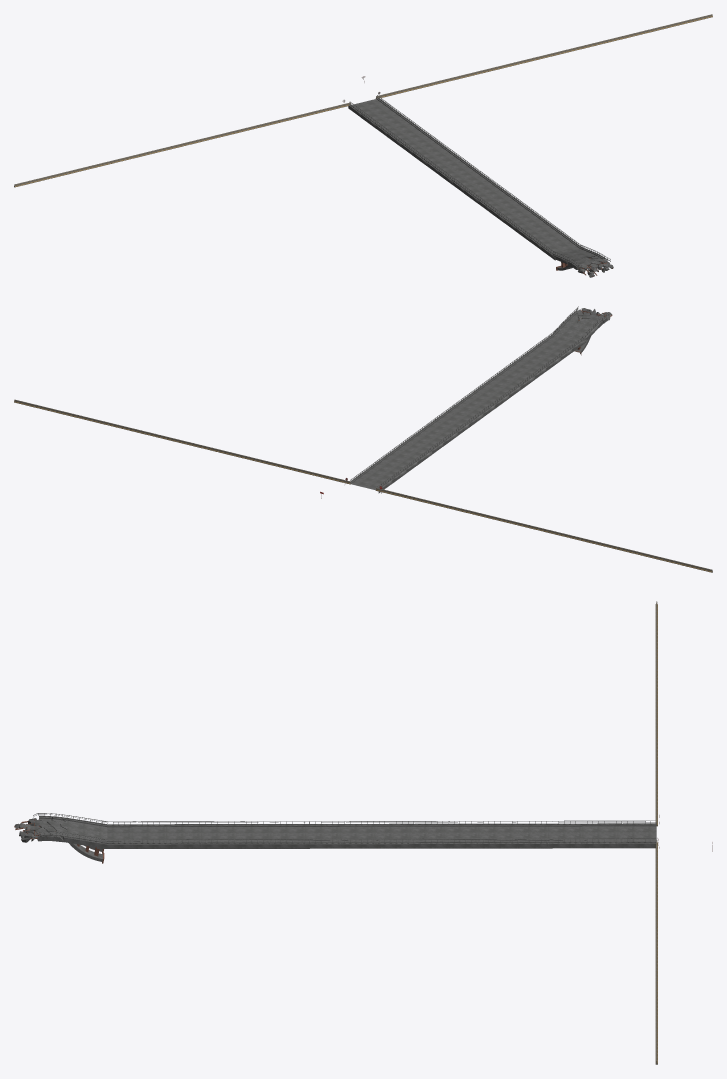
File: DangerBrige.glb
3 renders of one model, top to bottom at view 1: azimuth 30°, elevation 25°; view 2: azimuth 150°, elevation 25°; view 3: azimuth 270°, elevation 25°, orthographic. The views are drawn at different scales.
Visible parts, largest first — view 1: Bridge_008, barrier128; view 2: Bridge_008, barrier128; view 3: Bridge_008, barrier128.
Boxes of the visible parts, x1=… form: Bridge_008: x1=348, y1=95, x2=613, y2=277; barrier128: x1=14, y1=14, x2=712, y2=187; Bridge_008: x1=350, y1=306, x2=612, y2=493; barrier128: x1=14, y1=399, x2=712, y2=572; Bridge_008: x1=14, y1=813, x2=656, y2=863; barrier128: x1=655, y1=601, x2=657, y2=1064.
Size of the model in its own units: 516 by 17.53 by 331.
Materials: 12 (12 with a texture image).
